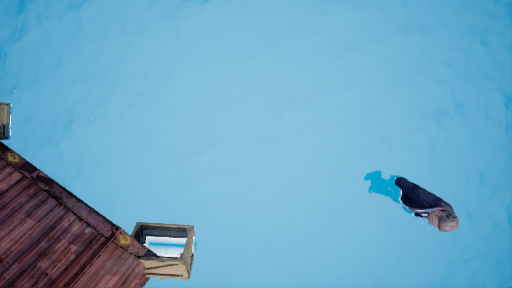person: (361, 171, 462, 238)
